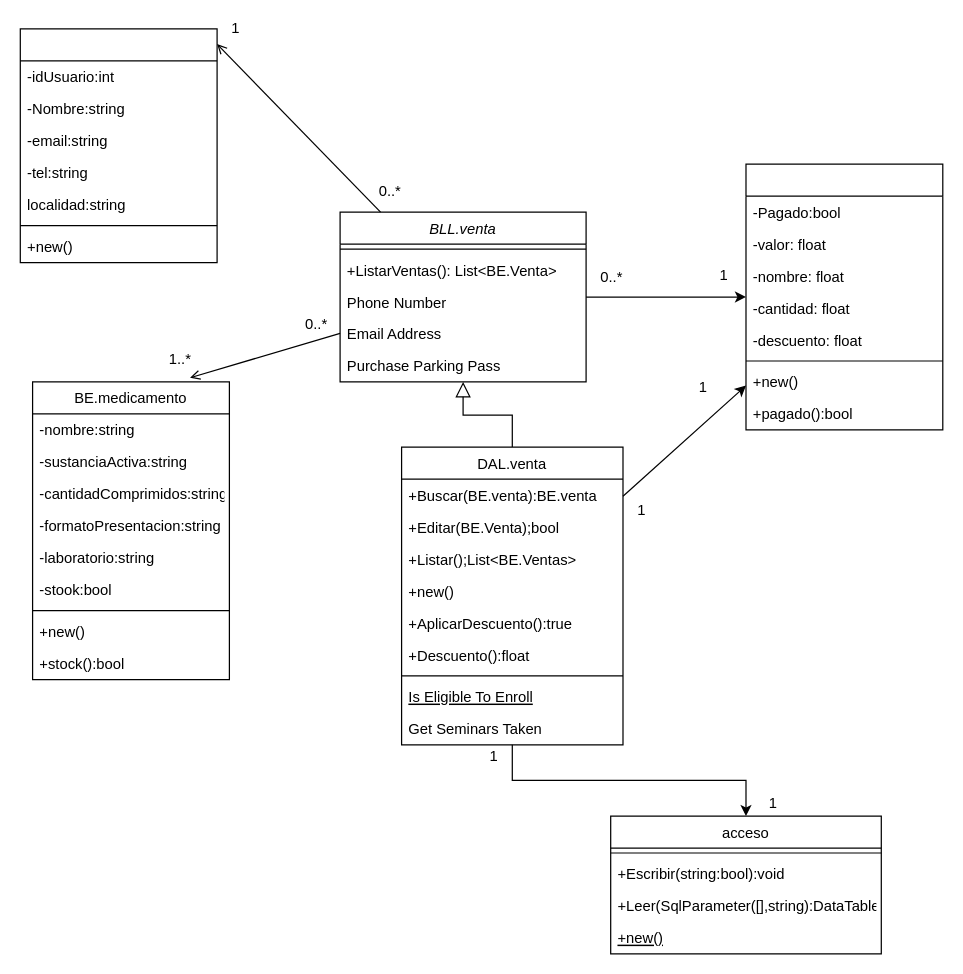
The diagram is 963 pixels wide and 974 high, and some of its shapes have lost their labels. The shapes that lost their labels are listed below. From the top down, each one's box as (x1, y1, x2, y2) in pixels, then its label:
(19, 28, 217, 263): BE.usuario
(745, 163, 943, 430): BE.Venta
